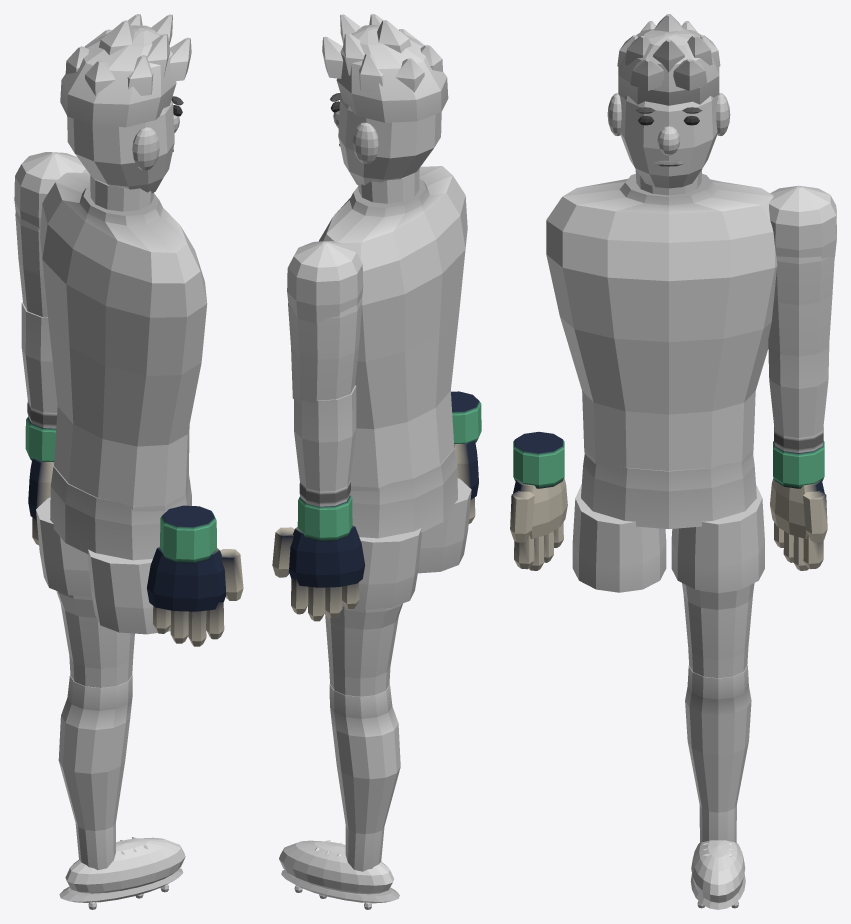
The model's file is goalkeeper.glb.
The picture shows the model from 3 angles, left to right: view 1: azimuth 30°, elevation 25°; view 2: azimuth 150°, elevation 25°; view 3: azimuth 270°, elevation 25°; orthographic projection. The views are drawn at different scales.
Parts seen in each view (by area): view 1: torso, shorts, hair, shin, gloveRight, head, boot, thigh, forearm, sleeve, gloveLeft, upperArm; view 2: torso, shorts, hair, shin, gloveLeft, head, forearm, upperArm, thigh, sleeve, boot, gloveRight; view 3: torso, shorts, shin, head, hair, gloveRight, gloveLeft, upperArm, thigh, forearm, sleeve, boot.
Boxes of the visible parts, box(x1,y1,x2,y2) form: torso: box(40, 172, 207, 511); shorts: box(36, 465, 206, 634); hair: box(60, 14, 191, 127); shin: box(58, 674, 132, 869); gloveRight: box(147, 505, 243, 646); head: box(67, 96, 183, 211); boot: box(59, 837, 185, 909); thigh: box(56, 591, 134, 687); forearm: box(21, 302, 57, 428); sleeve: box(14, 152, 88, 230); gloveLeft: box(25, 417, 56, 545); upperArm: box(15, 211, 47, 317); torso: box(318, 166, 467, 491); shorts: box(308, 447, 471, 609); hair: box(322, 14, 448, 122); shin: box(329, 684, 400, 871); gloveLeft: box(272, 495, 365, 621); head: box(330, 93, 441, 203); forearm: box(294, 385, 356, 506); upperArm: box(288, 297, 362, 405); thigh: box(325, 603, 402, 696); sleeve: box(287, 241, 363, 323); boot: box(279, 840, 399, 909); gloveRight: box(451, 391, 481, 523); torso: box(546, 173, 777, 470); shorts: box(572, 454, 764, 592); shin: box(685, 665, 751, 842); head: box(607, 93, 730, 195); hair: box(617, 14, 720, 105); gloveRight: box(510, 431, 567, 570); gloveLeft: box(770, 441, 827, 570); upperArm: box(768, 256, 834, 356); thigh: box(682, 583, 754, 678); forearm: box(768, 344, 829, 452); sleeve: box(769, 185, 836, 258); boot: box(690, 840, 745, 909).
Size of the model in its own units: 0.31 by 1.84 by 0.6288.
